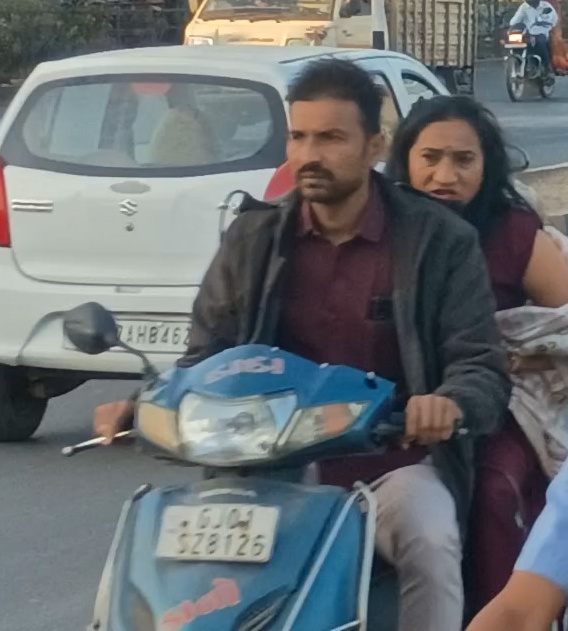BikeWithRider: (51, 56, 568, 631)
NoHelmet: (270, 55, 388, 206), (397, 94, 511, 222)
